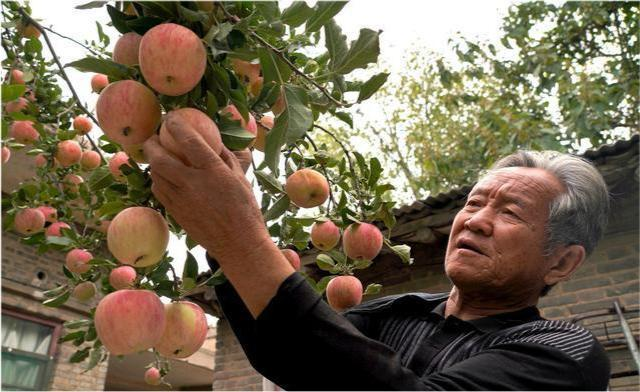apple: (136, 20, 206, 96), (94, 286, 167, 357), (93, 78, 161, 151), (104, 205, 167, 266), (156, 297, 208, 359), (342, 220, 383, 260), (286, 169, 329, 207), (325, 275, 363, 311), (309, 218, 341, 251), (15, 207, 45, 233), (56, 139, 82, 165), (80, 149, 101, 170), (362, 282, 383, 301), (91, 73, 109, 94), (73, 115, 93, 133)
